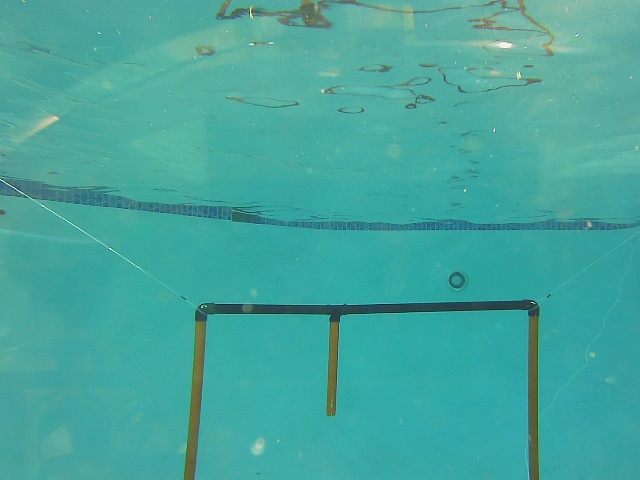Gate: (185, 315, 210, 480), (525, 310, 546, 480), (323, 312, 346, 423)
